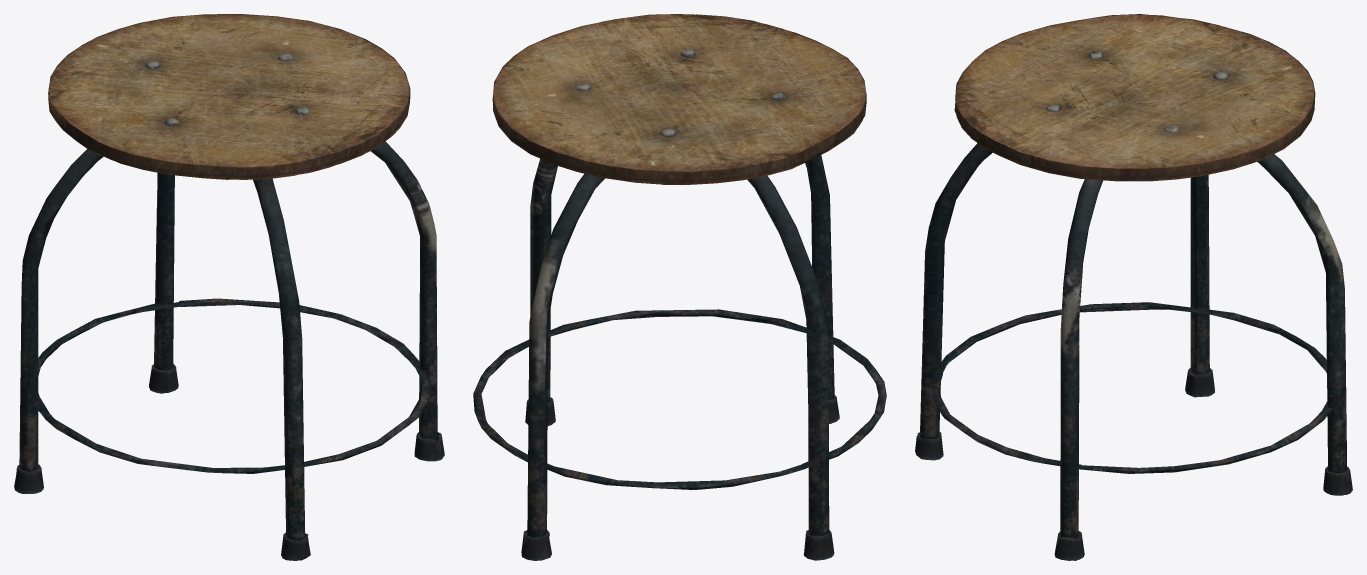
File: metal_stool_02.glb
The picture shows the model from 3 angles, left to right: view 1: azimuth 30°, elevation 25°; view 2: azimuth 150°, elevation 25°; view 3: azimuth 270°, elevation 25°; orthographic projection. The views are drawn at different scales.
Parts seen in each view (by area): view 1: metal_stool_02; view 2: metal_stool_02; view 3: metal_stool_02.
Part boxes in pixels (box(x1,y1,x2,y2)): metal_stool_02: box(14, 14, 444, 560); metal_stool_02: box(473, 14, 886, 560); metal_stool_02: box(915, 14, 1352, 560).
Size of the model in its own units: 0.4479 by 0.4581 by 0.4724.
1 material, 1 textured.
